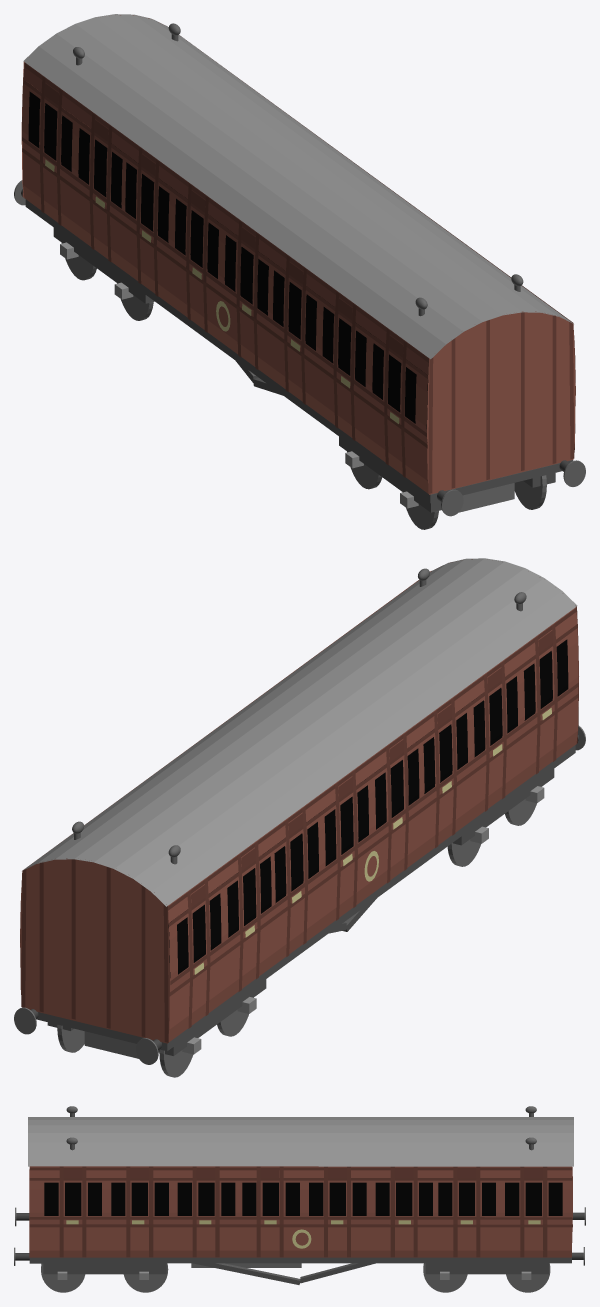
Rendered from lbscr-sub-bogie--brake-48ft.dae.
The picture shows the model from 3 angles, top to bottom: view 1: azimuth 30°, elevation 25°; view 2: azimuth 150°, elevation 25°; view 3: azimuth 270°, elevation 25°; orthographic projection. The views are drawn at different scales.
Visible parts, largest first — view 1: Tube, Plane_030, Plane_051, Plane_081, Plane_054, Plane_002, Plane_032, Cylinder_013, Plane_029, Plane_184, Plane_177, Plane_178 (+11 smaller); view 2: Tube, Plane_001, Plane_030, Plane_081, Plane_002, Plane_032, Cylinder_012, Plane_029, Plane_184, Plane_177, Plane_178, Plane_185 (+16 smaller); view 3: Tube, Plane_007, Plane_010, Plane_002, Plane_004, Plane_005, Plane_063, Plane_183, Plane_012, Plane_062, Cube_008, Cube_009 (+47 smaller).
Part boxes in pixels (x1=…): Tube: x1=23, y1=14, x2=573, y2=359; Plane_030: x1=23, y1=148, x2=428, y2=493; Plane_051: x1=427, y1=391, x2=575, y2=494; Plane_081: x1=22, y1=83, x2=427, y2=432; Plane_054: x1=439, y1=326, x2=562, y2=424; Plane_002: x1=25, y1=199, x2=573, y2=503; Plane_032: x1=23, y1=62, x2=428, y2=374; Cylinder_013: x1=433, y1=311, x2=569, y2=357; Plane_029: x1=22, y1=142, x2=427, y2=443; Plane_184: x1=24, y1=63, x2=428, y2=362; Plane_177: x1=22, y1=137, x2=426, y2=436; Plane_178: x1=22, y1=148, x2=427, y2=448; Tube: x1=23, y1=558, x2=577, y2=906; Plane_001: x1=20, y1=871, x2=169, y2=1043; Plane_030: x1=168, y1=693, x2=578, y2=1042; Plane_081: x1=168, y1=628, x2=578, y2=983; Plane_002: x1=36, y1=745, x2=575, y2=1051; Plane_032: x1=168, y1=607, x2=577, y2=922; Cylinder_012: x1=26, y1=858, x2=166, y2=904; Plane_029: x1=170, y1=687, x2=578, y2=991; Plane_184: x1=168, y1=608, x2=576, y2=910; Plane_177: x1=170, y1=682, x2=578, y2=984; Plane_178: x1=170, y1=694, x2=578, y2=996; Plane_185: x1=169, y1=624, x2=577, y2=926; Tube: x1=28, y1=1117, x2=573, y2=1166; Plane_007: x1=29, y1=1224, x2=572, y2=1257; Plane_010: x1=29, y1=1178, x2=572, y2=1218; Plane_002: x1=29, y1=1257, x2=571, y2=1263; Plane_004: x1=29, y1=1166, x2=572, y2=1177; Plane_005: x1=29, y1=1218, x2=572, y2=1223; Plane_063: x1=29, y1=1224, x2=572, y2=1227; Plane_183: x1=29, y1=1167, x2=572, y2=1170; Plane_012: x1=29, y1=1178, x2=572, y2=1180; Plane_062: x1=29, y1=1217, x2=572, y2=1219; Cube_008: x1=43, y1=1263, x2=166, y2=1274; Cube_009: x1=425, y1=1263, x2=548, y2=1274.
Size of the model in its own units: 1.77 by 8.71 by 2.57.
